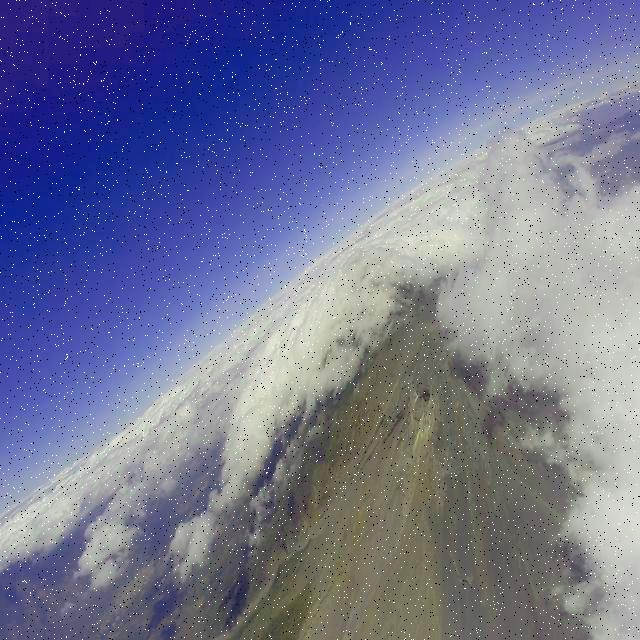Summit: (380, 320, 470, 450)
